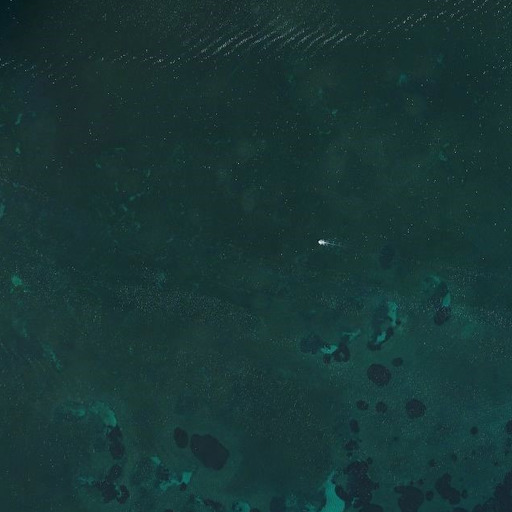ship: (316, 238, 325, 245)
